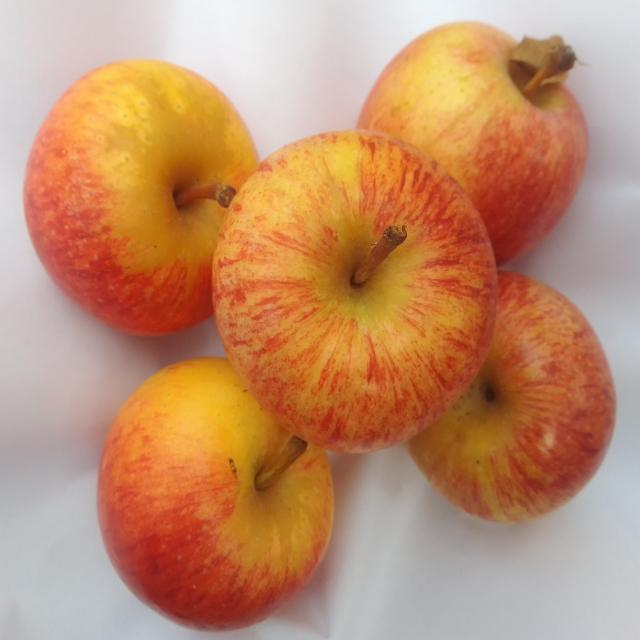Fresh Apple: (210, 135, 497, 447), (38, 59, 272, 338), (105, 360, 342, 623), (370, 18, 593, 274), (413, 275, 625, 540)
